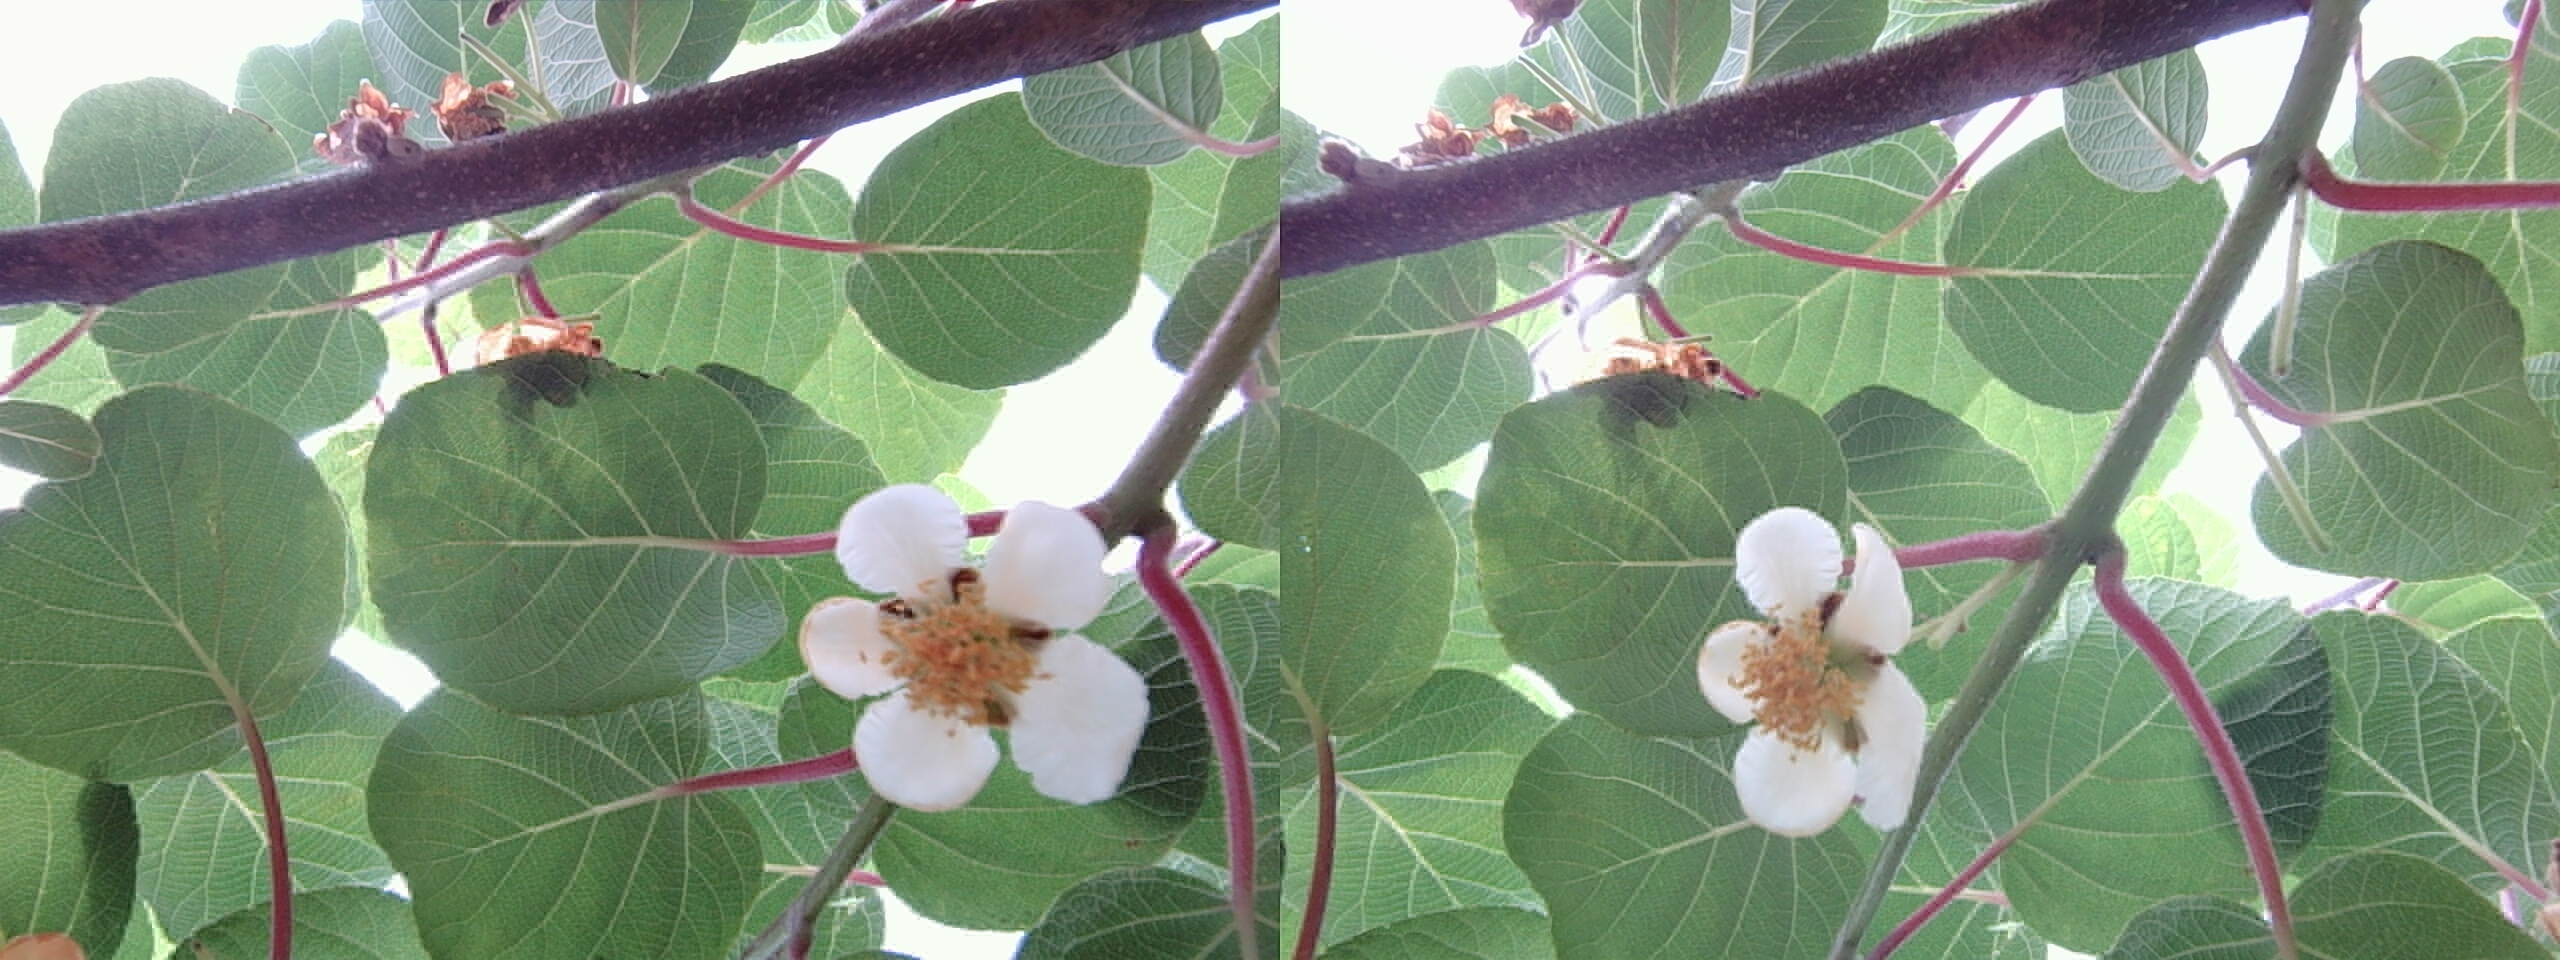flower: (803, 527, 1123, 798), (1696, 526, 1918, 829)
